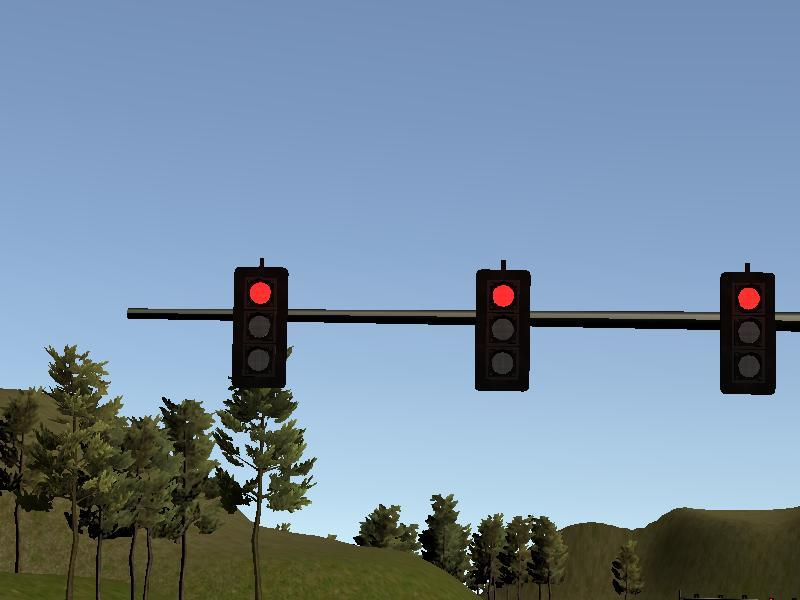Red: (475, 270, 530, 391), (720, 272, 774, 394), (233, 266, 286, 388)
